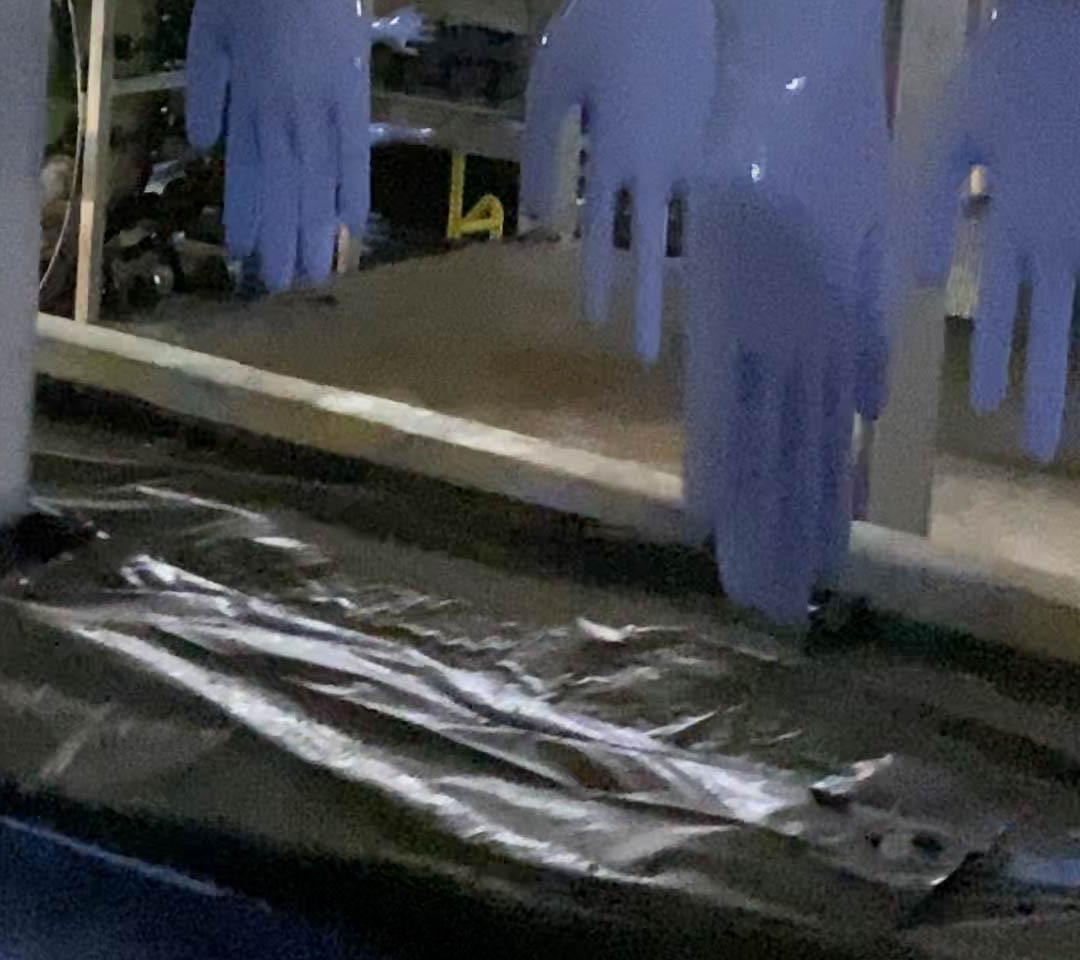glove: (685, 1, 889, 635), (904, 1, 1080, 462), (518, 1, 710, 362), (180, 1, 376, 291)
